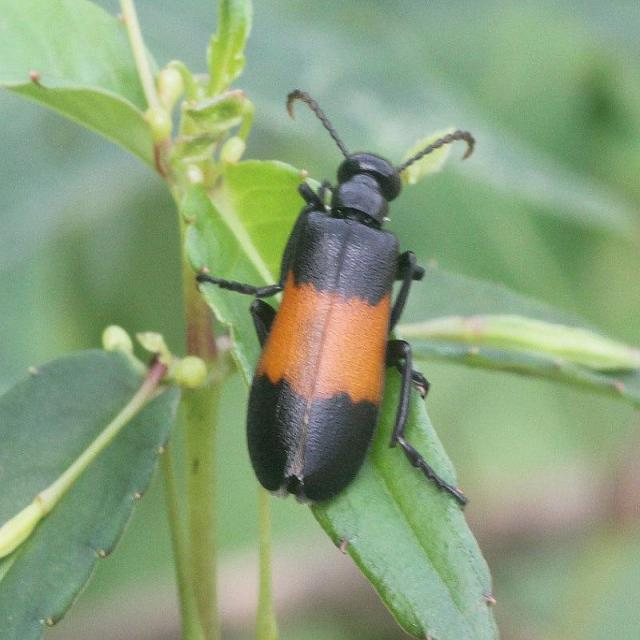BlisterBeetle-Adult-: (193, 51, 500, 518)
